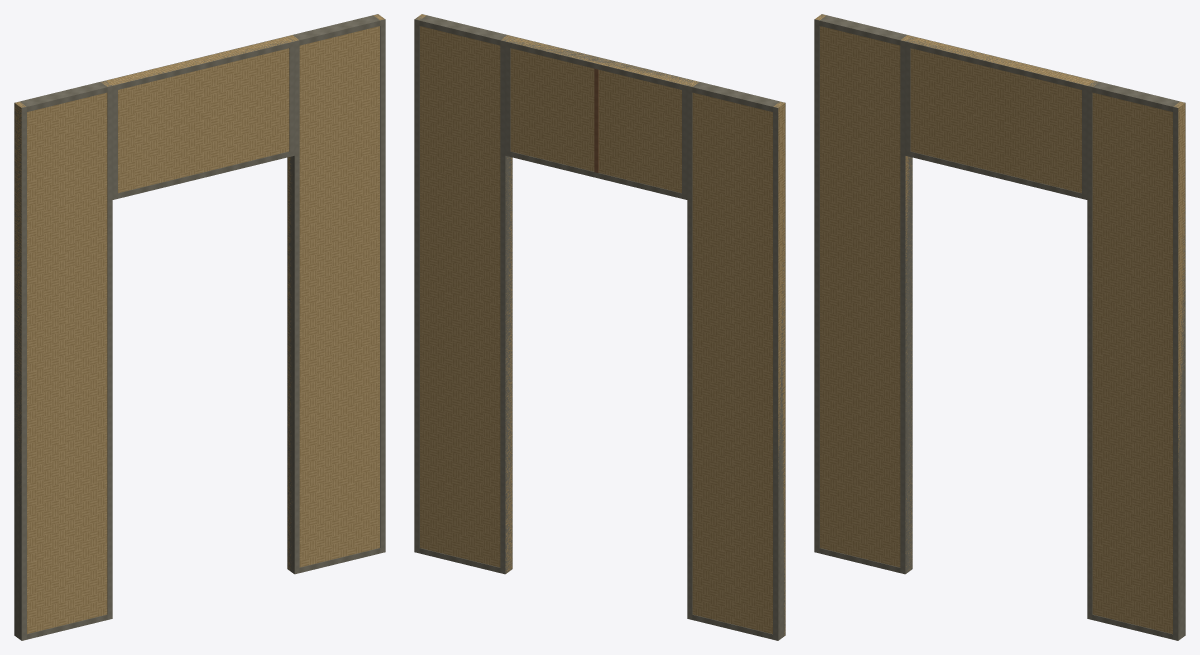
Rendered from MRP_WallDoor_Bamboo_2m.fbx.
3 views of the same model, side by side, from view 1: azimuth 30°, elevation 25°; view 2: azimuth 150°, elevation 25°; view 3: azimuth 330°, elevation 25° (orthographic).
Visible parts, largest first — view 1: Body; view 2: Body; view 3: Body.
Part boxes in pixels (x1,y1,x2,y2): Body: [14, 14, 385, 640]; Body: [414, 14, 785, 640]; Body: [814, 14, 1185, 640].
Bounding box in the file's own units: 2 × 2.8 × 0.07.
